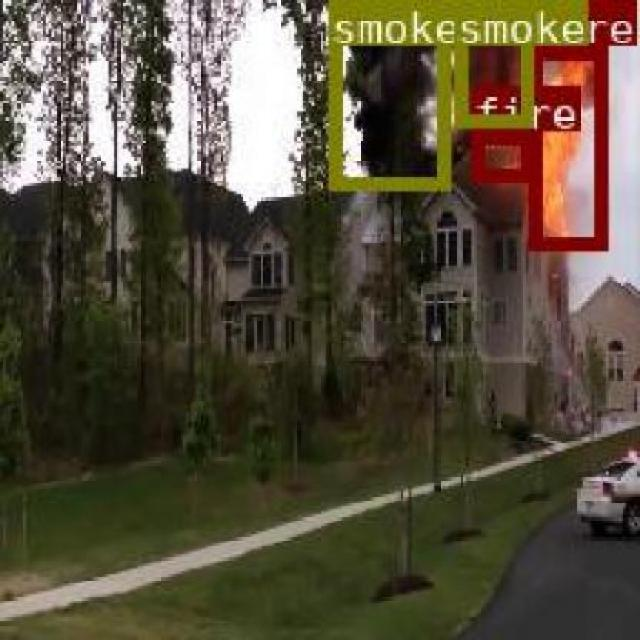Fire: (526, 45, 606, 246), (472, 128, 530, 180)
Smoke: (327, 0, 447, 186), (452, 0, 528, 123)
